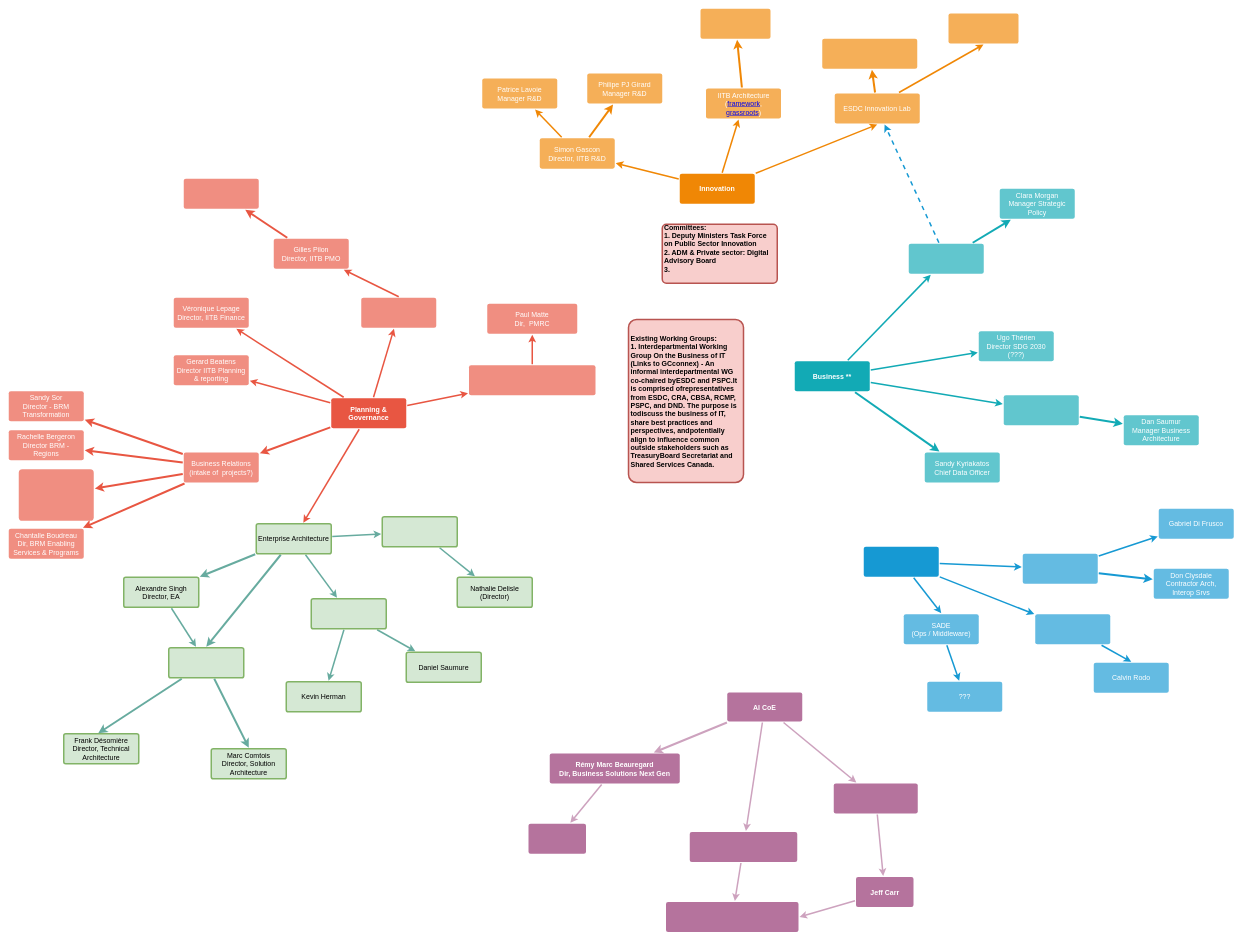
The diagram is 1242 pixels wide and 941 high, and some of its shapes have lost their labels. The box of each missing label's shape, as (x1, y1, x2, y2) in pixels:
Alain M Gauthier: (700, 8, 770, 38)
APIs / DevOps: (864, 546, 938, 576)
Business Architecture: (310, 598, 387, 629)
Catherine Charbonneau Manager: (822, 38, 917, 68)
Chief Data Officer (Sandy Kyriakatos): (834, 783, 918, 813)
Data Analytic Services (DAS): (690, 832, 797, 862)
François Brillant Dir, Resource Centre & SDS: (1035, 614, 1110, 644)
Ginette Gervais, Director Service Research: (908, 244, 984, 274)
IITB ARC Standards, solutions Arch: (168, 647, 244, 678)
IITB PMO: (361, 298, 436, 328)
IT Security: (381, 516, 458, 547)
Jana Kriz Director, Business Architecture: (1004, 395, 1078, 425)
Jeff Shipley: (528, 824, 586, 854)
Mathieu Audet Manager AI too??: (948, 13, 1018, 43)
Michel Savoie Director, Interop Servs: (1022, 554, 1098, 584)
Project Mgt Resource Centre (PMRC) (PoC, Pilot Governance): (469, 365, 595, 395)
Stéphane Daigle, Marc Chartrand Dir BRM - Programs and Policy: (18, 469, 94, 520)
Yannick Brisson Snr Data Analytics Services: (666, 902, 798, 932)
Étienne Boivin-Dumais MAnager, PMO: (184, 178, 258, 208)
